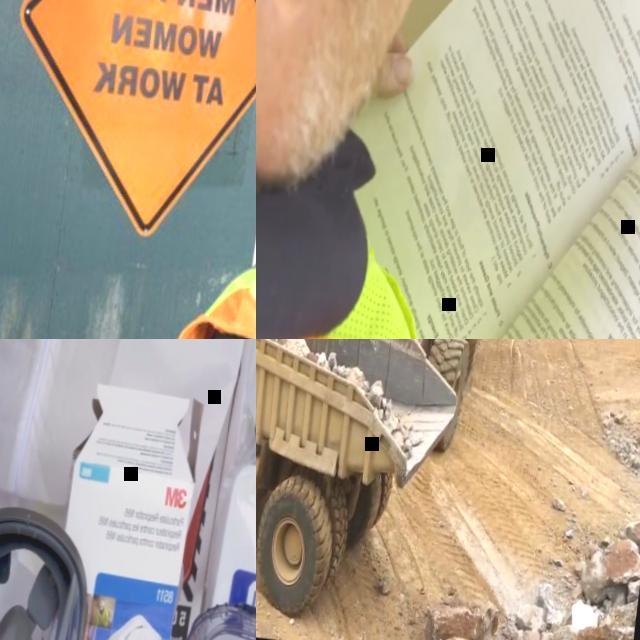vest: (256, 201, 440, 339)
